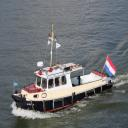tugboat: (12, 23, 119, 117)
